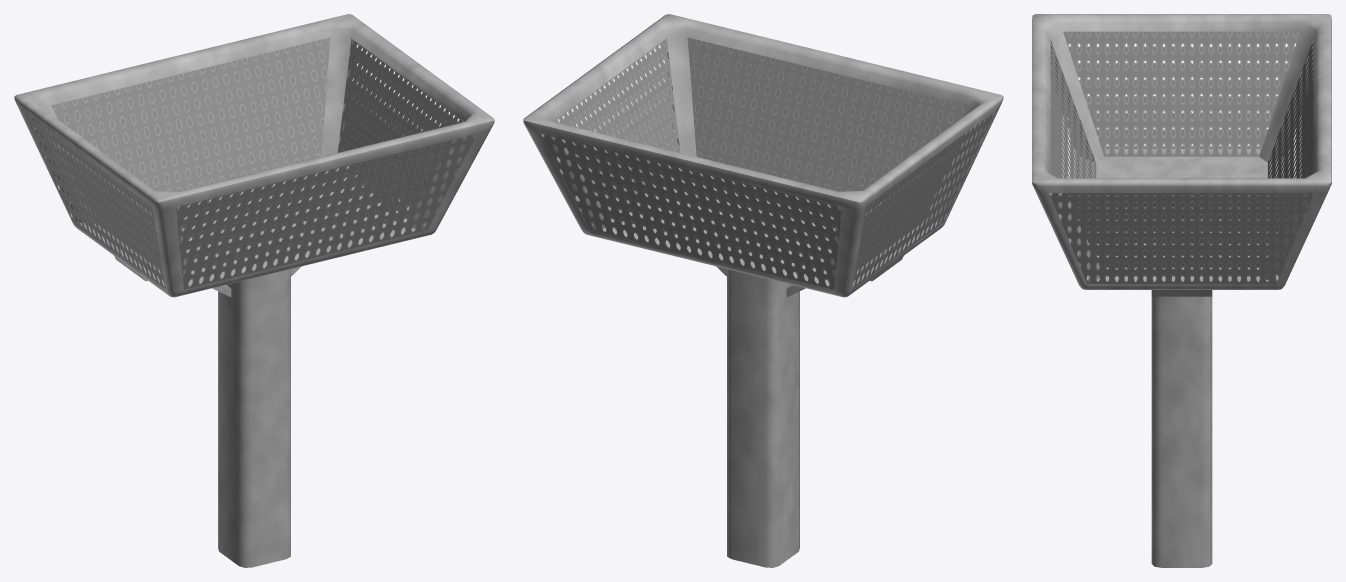
The model's file is TrashBasket.fbx.
3 renders of one model, left to right at view 1: azimuth 30°, elevation 25°; view 2: azimuth 150°, elevation 25°; view 3: azimuth 270°, elevation 25°, orthographic. The views are drawn at different scales.
Visible parts, largest first — view 1: TrashBasketTrapzeium; view 2: TrashBasketTrapzeium; view 3: TrashBasketTrapzeium.
Boxes of the visible parts, x1,y1,x2,y2 form: TrashBasketTrapzeium: (14,14,494,567); TrashBasketTrapzeium: (523,14,1003,567); TrashBasketTrapzeium: (1032,14,1331,567).
Bounding box in the file's own units: 79.39 × 100 × 59.33.
